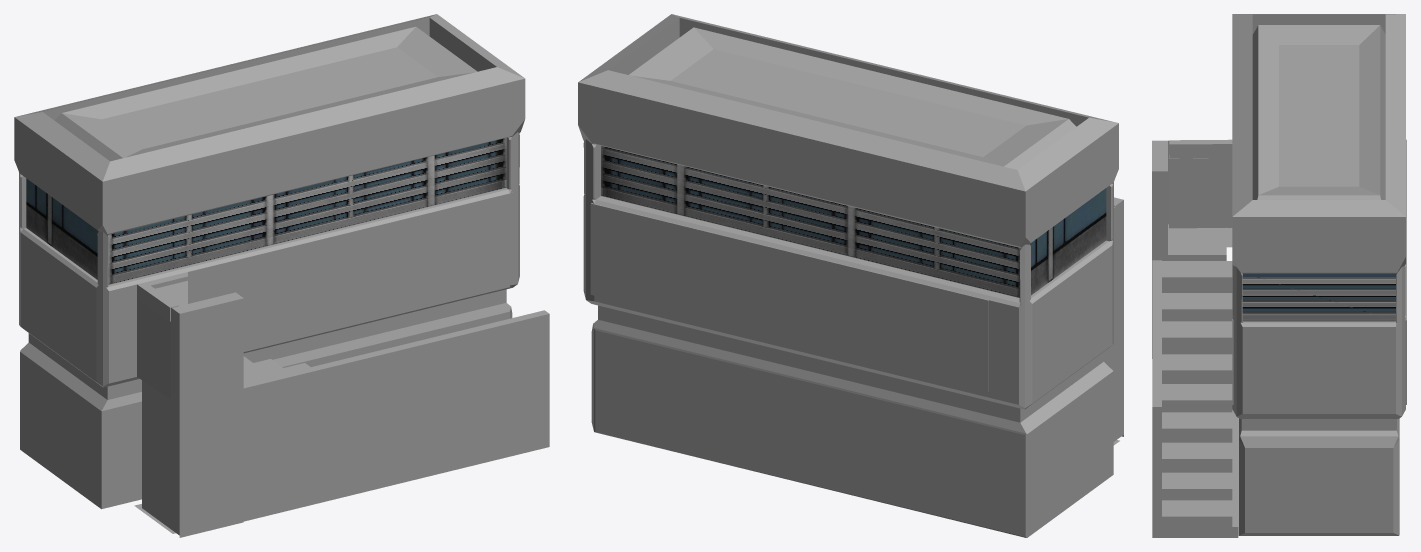
Rendered from Building 1.fbx.
3 views of the same model, side by side, from view 1: azimuth 30°, elevation 25°; view 2: azimuth 150°, elevation 25°; view 3: azimuth 270°, elevation 25° (orthographic). The views are drawn at different scales.
Parts seen in each view (by area): view 1: pCube83; view 2: pCube83; view 3: pCube83.
Part boxes in pixels (<box>): pCube83: <box>14,14,549,537</box>; pCube83: <box>578,14,1123,537</box>; pCube83: <box>1152,14,1406,537</box>.
Bounding box in the file's own units: 197 × 153 × 105.
Materials: 2 (1 with a texture image).
